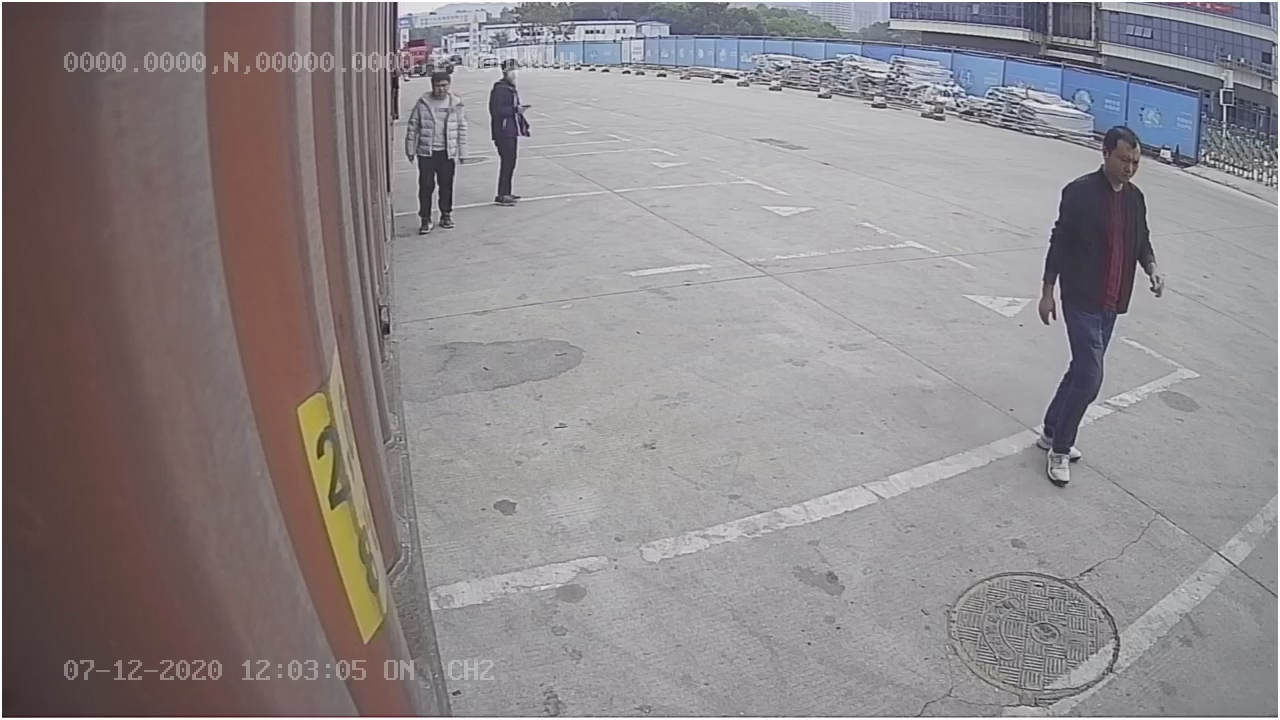person: (1033, 123, 1167, 484)
